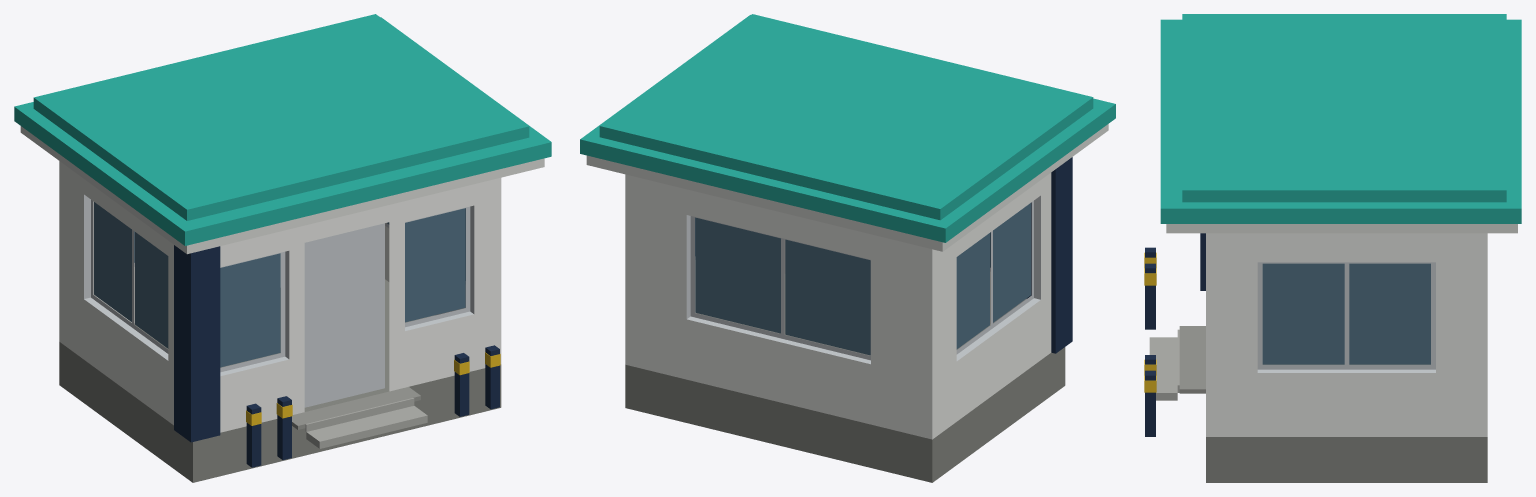
3 views of the same model, side by side, from view 1: azimuth 30°, elevation 25°; view 2: azimuth 150°, elevation 25°; view 3: azimuth 270°, elevation 25° (orthographic). The views are drawn at different scales.
Visible parts, largest first — view 1: turquoiseRoof, whiteWall, glass, frame, plinth, navyPillar, canopyTrim, step-guard-front, bollardNavy, threshold-guard-front, bollardYellow; view 2: turquoiseRoof, whiteWall, glass, plinth, frame, canopyTrim, navyPillar; view 3: turquoiseRoof, whiteWall, glass, plinth, canopyTrim, frame, threshold-guard-front, step-guard-front, bollardNavy, bollardYellow.
Part boxes in pixels (x1,y1,x2,y2): turquoiseRoof: (14,14,551,245); whiteWall: (59,161,501,432); glass: (94,202,465,367); frame: (84,194,474,407); plinth: (59,279,501,482); navyPillar: (174,245,220,442); canopyTrim: (20,126,544,254); step-guard-front: (305,398,427,448); bollardNavy: (246,345,499,467); threshold-guard-front: (292,387,420,429); bollardYellow: (246,352,500,425); turquoiseRoof: (580,14,1115,242); whiteWall: (625,173,1051,439); glass: (695,203,1030,355); plinth: (625,274,1065,482); frame: (686,195,1040,364); canopyTrim: (586,124,1108,251); navyPillar: (1026,157,1072,353); turquoiseRoof: (1160,14,1521,223); whiteWall: (1206,233,1487,436); glass: (1262,263,1430,364); plinth: (1206,364,1487,482); canopyTrim: (1166,224,1517,233); frame: (1257,262,1435,372); threshold-guard-front: (1179,326,1205,393); step-guard-front: (1149,329,1179,400); bollardNavy: (1145,247,1155,436); bollardYellow: (1144,252,1156,392).
Bounding box in the file's own units: 4.76 × 3.54 × 4.01.
